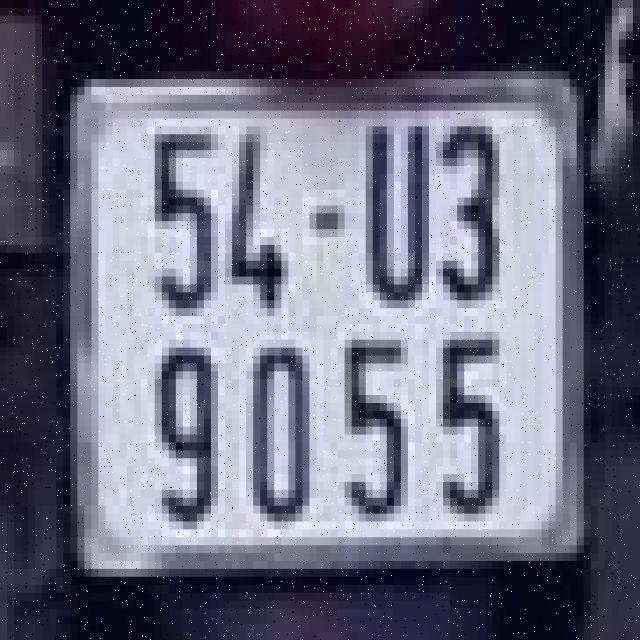0: (239, 340, 324, 545)
3: (432, 122, 503, 320)
4: (225, 115, 310, 320)
5: (141, 111, 225, 324), (422, 316, 506, 529), (334, 312, 411, 533)
9: (144, 336, 229, 541)
U: (352, 107, 436, 312)
